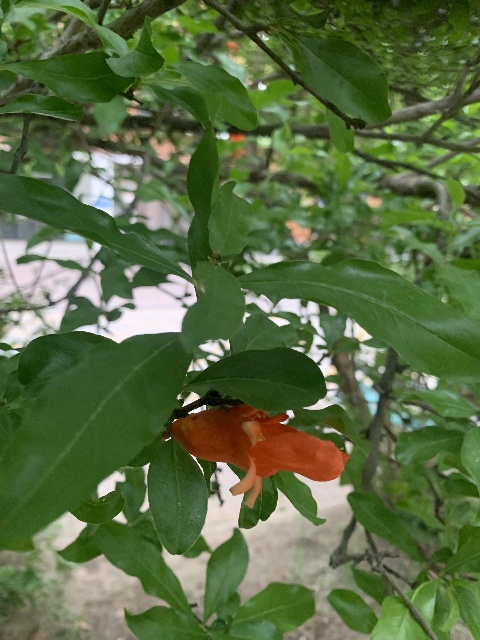flower: (172, 403, 349, 507)
